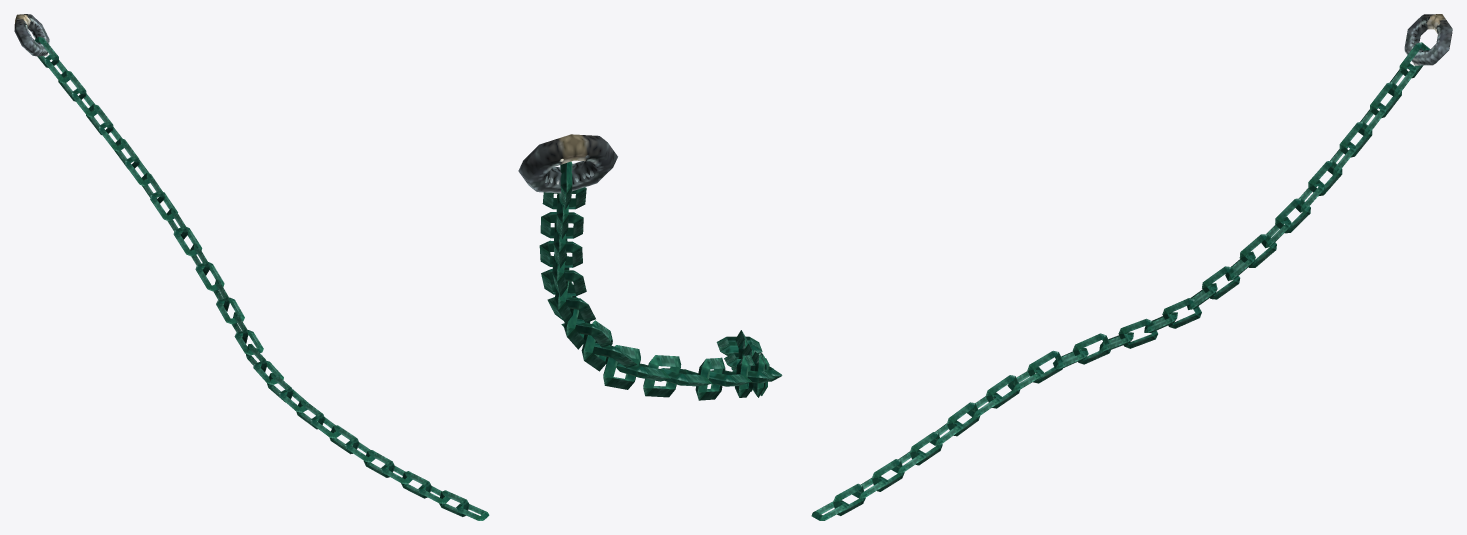
Rendered from 5st_chain_008.fbx.
3 views of the same model, side by side, from view 1: azimuth 30°, elevation 25°; view 2: azimuth 150°, elevation 25°; view 3: azimuth 270°, elevation 25° (orthographic). The views are drawn at different scales.
Parts seen in each view (by area): view 1: chain008; view 2: chain008; view 3: chain008.
Part boxes in pixels (bbox=[...]): chain008: bbox=[14, 14, 489, 520]; chain008: bbox=[518, 134, 782, 400]; chain008: bbox=[811, 14, 1452, 520].
Bounding box in the file's own units: 8.31 × 13.47 × 19.47.
